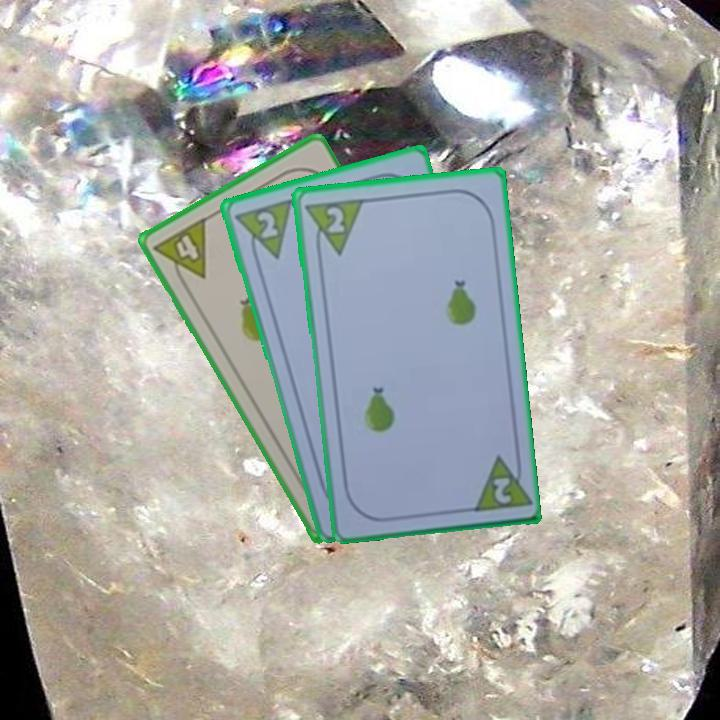2p: (230, 194, 295, 267), (300, 194, 366, 259), (489, 473, 514, 507)
4p: (150, 214, 209, 292)
